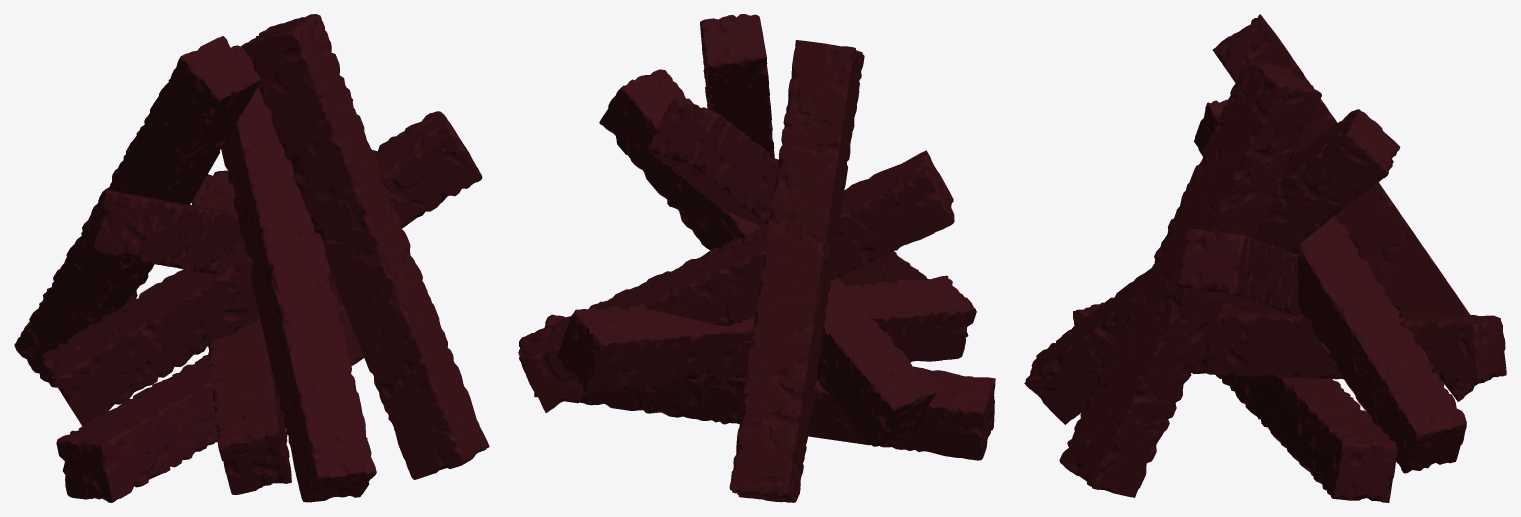
Rendered from fire.fbx.
3 renders of one model, left to right at view 1: azimuth 30°, elevation 25°; view 2: azimuth 150°, elevation 25°; view 3: azimuth 270°, elevation 25°, orthographic. The views are drawn at different scales.
Visible parts, largest first — view 1: woodBlock; view 2: woodBlock; view 3: woodBlock.
Boxes of the visible parts, x1,y1,x2,y2 form: woodBlock: [14, 14, 489, 502]; woodBlock: [518, 14, 995, 502]; woodBlock: [1024, 14, 1506, 502].
Size of the model in its own units: 609 by 585 by 644.
